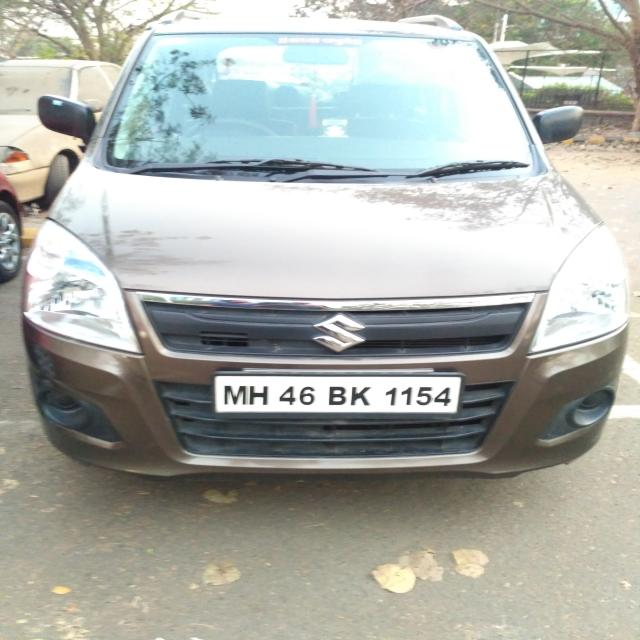Number-Plate: (219, 374, 457, 418)
